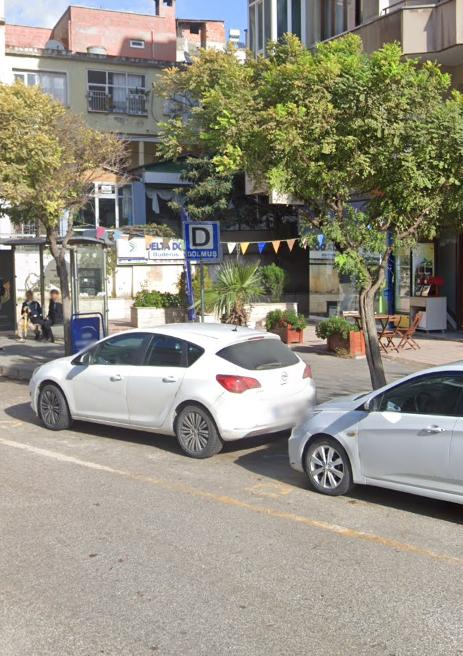station: (187, 224, 216, 252)
